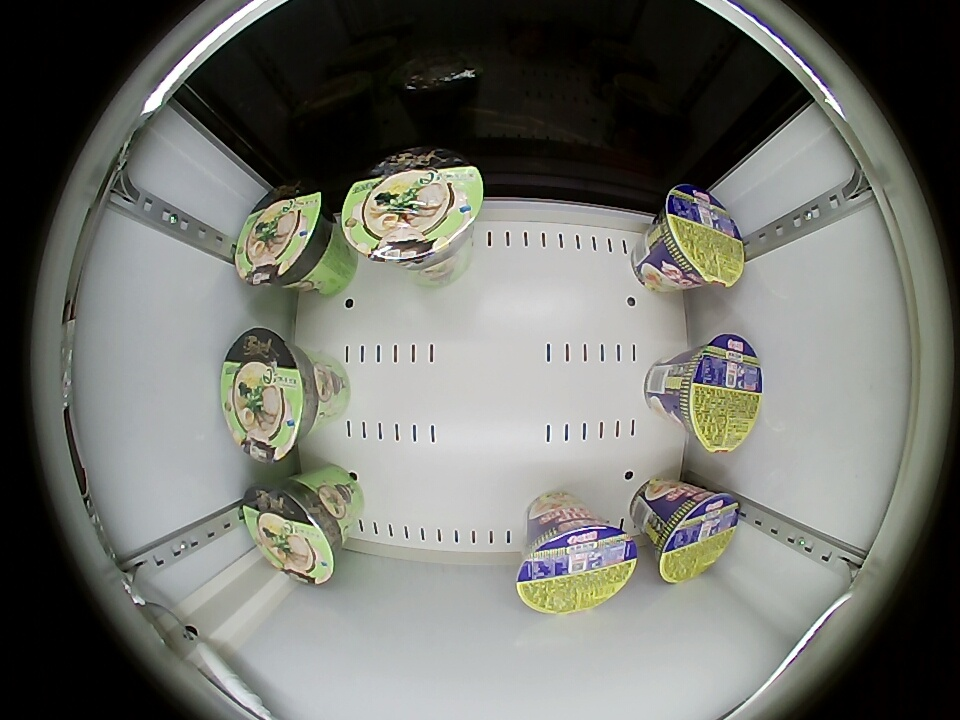heweidao: (516, 520, 639, 615), (676, 336, 763, 454), (660, 183, 746, 289), (655, 488, 741, 583)
tangdaren: (339, 148, 484, 272), (219, 328, 320, 463), (232, 181, 337, 290), (240, 479, 346, 586)
